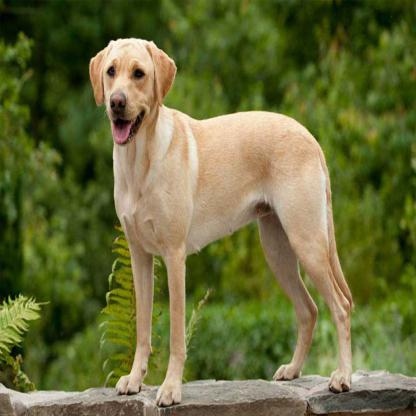Rotveler: (88, 34, 356, 409)
